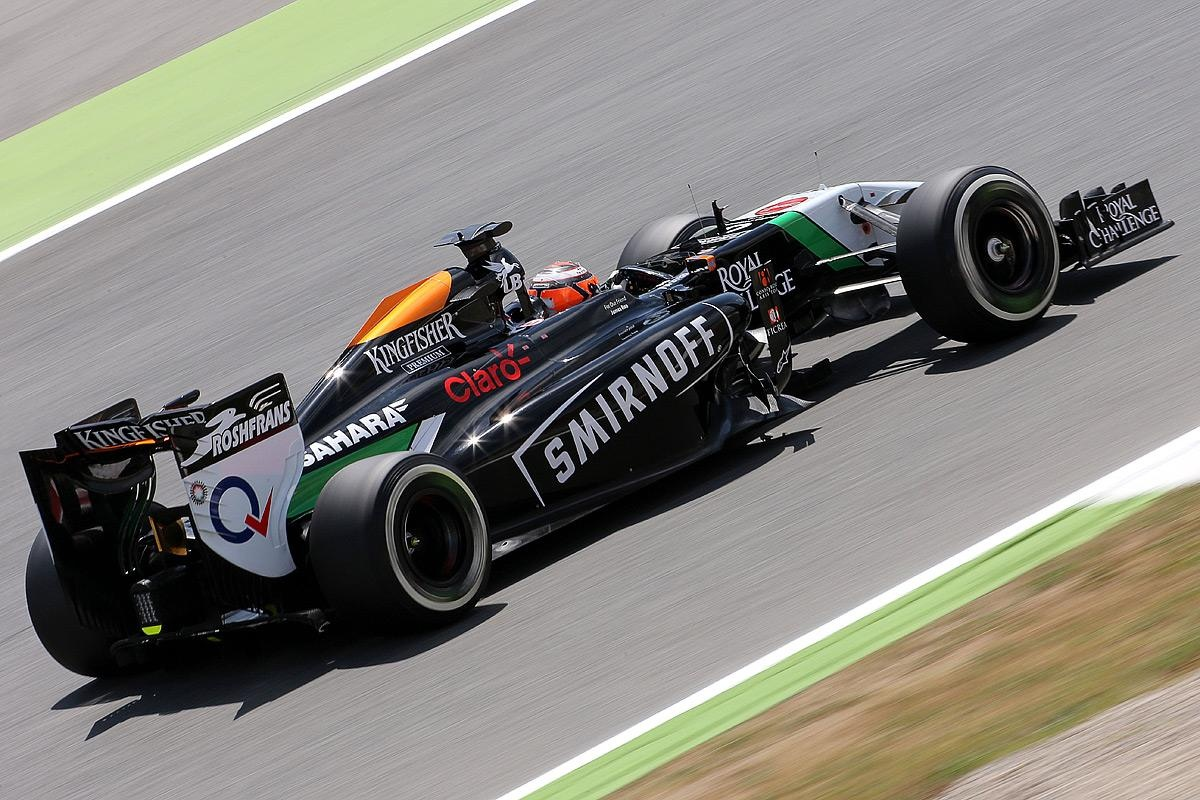racing car: (35, 156, 1132, 681)
